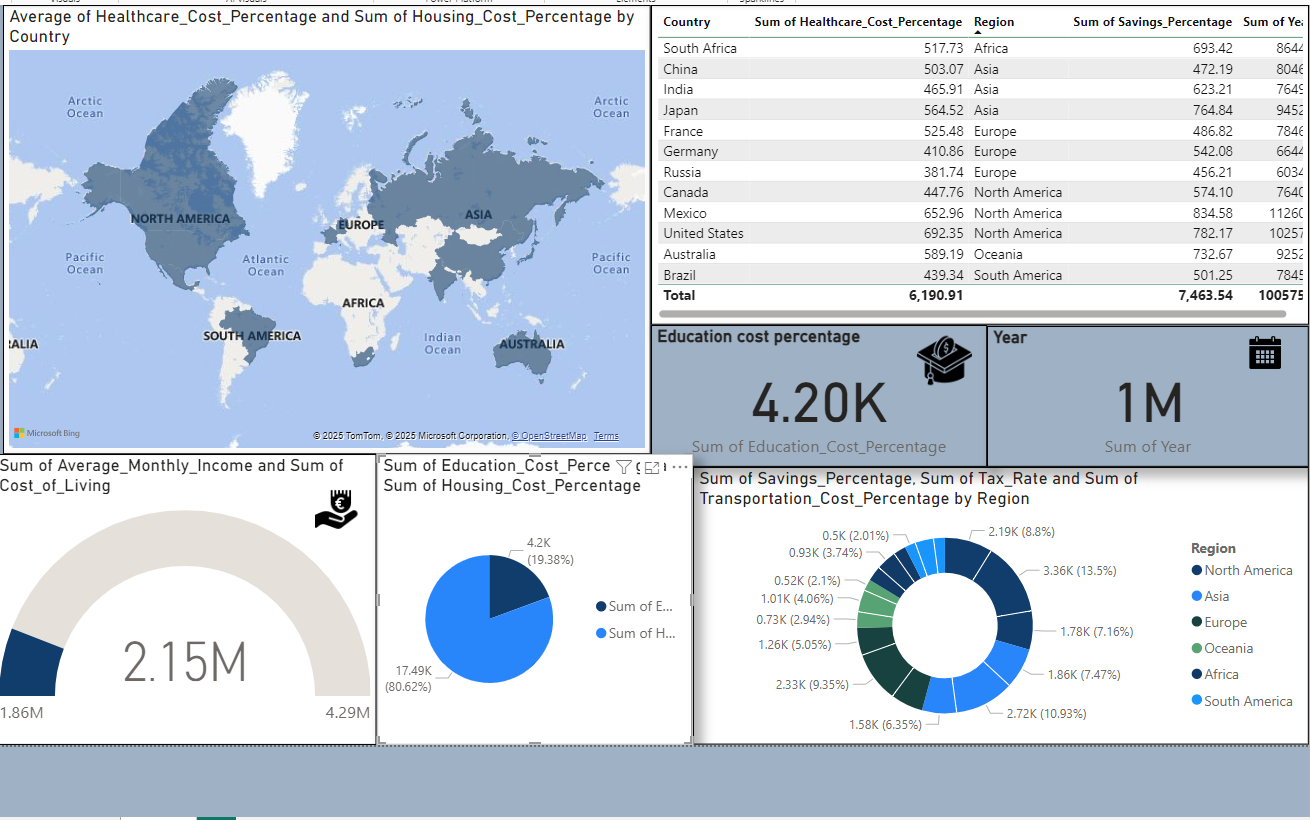

What the dashboard file says about the page in this screenshot:
{"tool":"powerbi","page":{"name":"Page 1","canvas":[1280,720],"ordinal":0},"visuals":[{"type":"filledMap","fields":{"Category":["Cost_of_Living_and_Income_Extended.Country"],"Y":["Avg(Cost_of_Living_and_Income_Extended.Healthcare_Cost_Percentage)"]},"box":[9.7,0,630.3,436.7],"z":0},{"type":"tableEx","fields":{"Values":["Cost_of_Living_and_Income_Extended.Country","Sum(Cost_of_Living_and_Income_Extended.Healthcare_Cost_Percentage)","Cost_of_Living_and_Income_Extended.Region","Sum(Cost_of_Living_and_Income_Extended.Savings_Percentage)","Sum(Cost_of_Living_and_Income_Extended.Year)"]},"box":[640,0,640,311.2],"z":1000},{"type":"gauge","fields":{"Y":["Sum(Cost_of_Living_and_Income_Extended.Average_Monthly_Income)"],"MinValue":["Sum(Cost_of_Living_and_Income_Extended.Cost_of_Living)"]},"box":[0,436.7,373.5,283],"z":2000},{"type":"donutChart","fields":{"Y":["Sum(Cost_of_Living_and_Income_Extended.Savings_Percentage)","Sum(Cost_of_Living_and_Income_Extended.Tax_Rate)","Sum(Cost_of_Living_and_Income_Extended.Transportation_Cost_Percentage)"],"Category":["Cost_of_Living_and_Income_Extended.Region"]},"box":[680.9,449.4,599.1,270.4],"z":3000},{"type":"pieChart","fields":{"Y":["Sum(Cost_of_Living_and_Income_Extended.Education_Cost_Percentage)","Sum(Cost_of_Living_and_Income_Extended.Housing_Cost_Percentage)"]},"box":[373.5,436.7,307.4,283],"z":4000},{"type":"card","title":"Education cost percentage","fields":{"Values":["Sum(Cost_of_Living_and_Income_Extended.Education_Cost_Percentage)"]},"box":[640,311.2,326.8,138.1],"z":5000},{"type":"card","title":"Year","fields":{"Values":["Sum(Cost_of_Living_and_Income_Extended.Year)"]},"box":[966.8,312.2,313.2,137.1],"z":6000},{"type":"image","box":[890.9,311.2,69.1,69.1],"z":7000},{"type":"image","box":[1215.8,317.1,42.8,42.8],"z":8000},{"type":"image","box":[306.4,460.1,55.4,61.3],"z":9000}]}

Visuals, with their boxes in screenshot pixels (x1, y1, x2, y2):
filledMap - Cost_of_Living_and_Income_Extended.Country x Avg(Cost_of_Living_and_Income_Extended.Healthcare_Cost_Percentage): 10 10 646 451
tableEx - Cost_of_Living_and_Income_Extended.Country x Sum(Cost_of_Living_and_Income_Extended.Healthcare_Cost_Percentage): 646 10 1292 324
gauge - Sum(Cost_of_Living_and_Income_Extended.Average_Monthly_Income) x Sum(Cost_of_Living_and_Income_Extended.Cost_of_Living): 0 451 377 737
donutChart - Sum(Cost_of_Living_and_Income_Extended.Savings_Percentage) x Sum(Cost_of_Living_and_Income_Extended.Tax_Rate): 687 464 1292 737
pieChart - Sum(Cost_of_Living_and_Income_Extended.Education_Cost_Percentage) x Sum(Cost_of_Living_and_Income_Extended.Housing_Cost_Percentage): 377 451 687 737
"Education cost percentage" card: 646 324 976 464
"Year" card: 976 325 1292 464
image: 899 324 969 394
image: 1227 330 1270 373
image: 309 475 365 536
